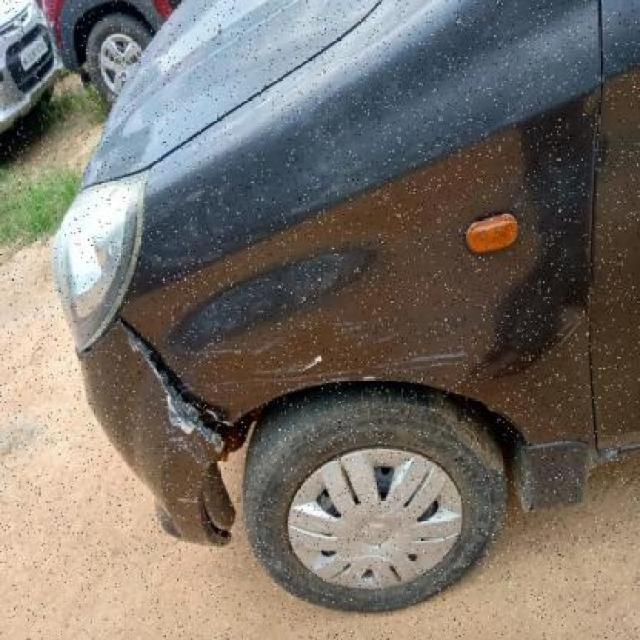fender-dent: (205, 182, 587, 469)
front-bumper-dent: (57, 314, 241, 558)
